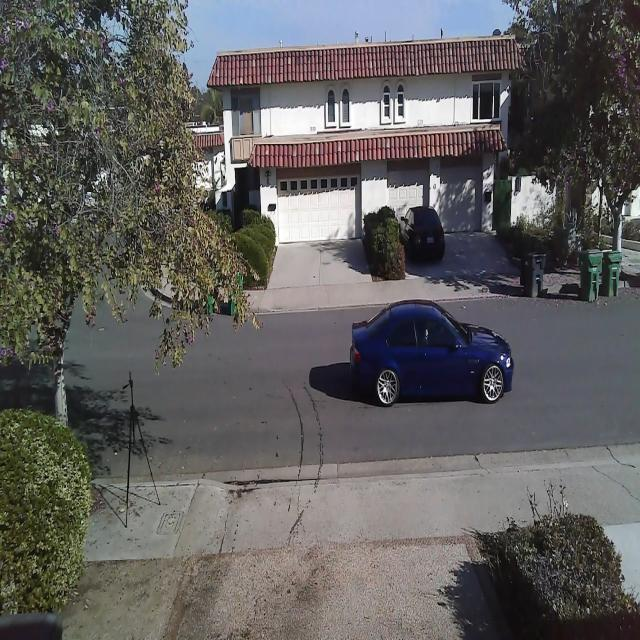Carbeetle: (344, 293, 522, 411)
Civilian: (397, 206, 445, 264)
